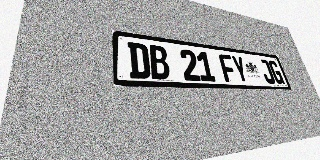1: (195, 51, 216, 82)
2: (179, 49, 201, 81)
B: (148, 44, 171, 80)
D: (127, 42, 151, 79)
F: (218, 54, 238, 82)
G: (267, 60, 285, 84)
J: (258, 59, 276, 84)
Y: (230, 55, 250, 83)
